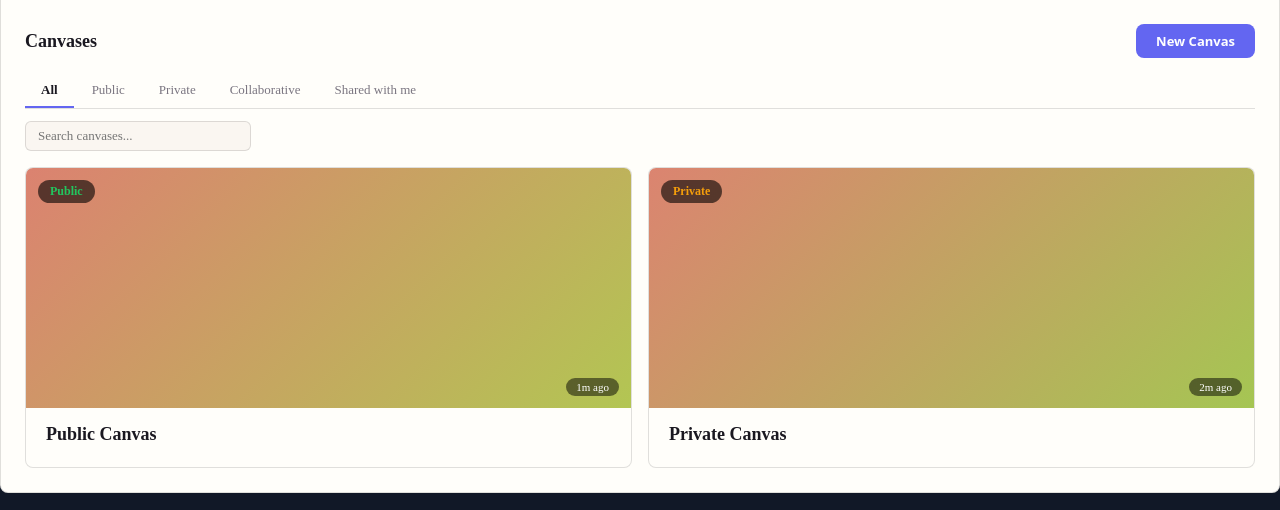
Test: CanvasGallerySection › filter tabs › Private filter shows only private canvases
The image size is (1280, 510).
Click the button with test id "filter-private" at {"x": 177, "y": 91}, box [143,74,212,108]
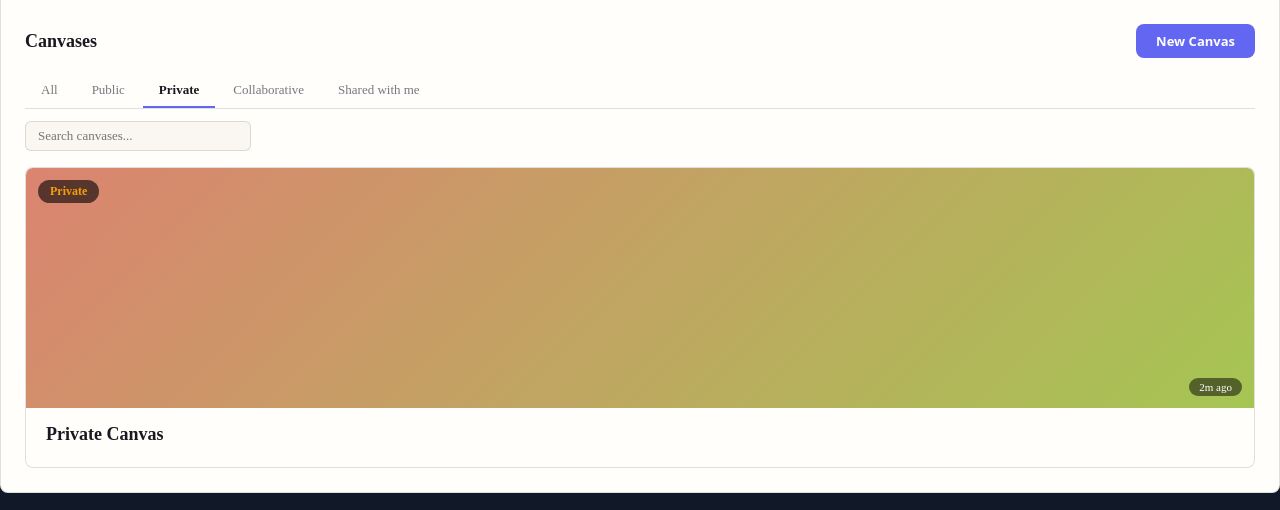
Check: the text "Private Canvas" is shown, box [46,424,164,444]
Check: the link "Public Canvas" is gone
